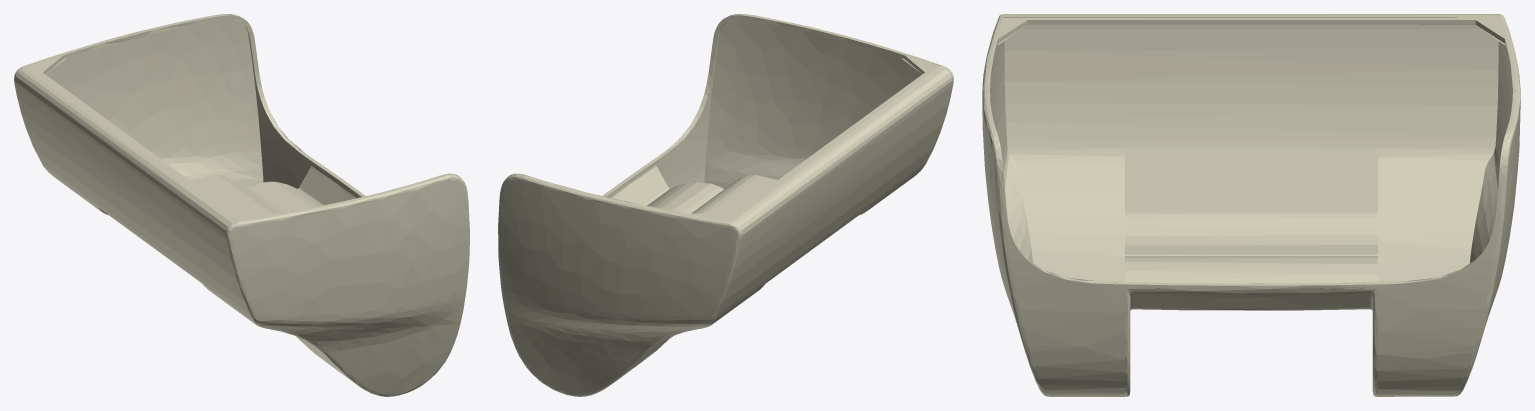
The model's file is head_tilt.dae.
3 renders of one model, left to right at view 1: azimuth 30°, elevation 25°; view 2: azimuth 150°, elevation 25°; view 3: azimuth 270°, elevation 25°, orthographic. The views are drawn at different scales.
Parts seen in each view (by area): view 1: Head_Tilt; view 2: Head_Tilt; view 3: Head_Tilt.
Boxes of the visible parts, <box> form: Head_Tilt: <box>14,14,469,396</box>; Head_Tilt: <box>498,14,953,396</box>; Head_Tilt: <box>982,14,1520,396</box>.
Bounding box in the file's own units: 0.1326 × 0.2109 × 0.1173.
1 material, 1 textured.
